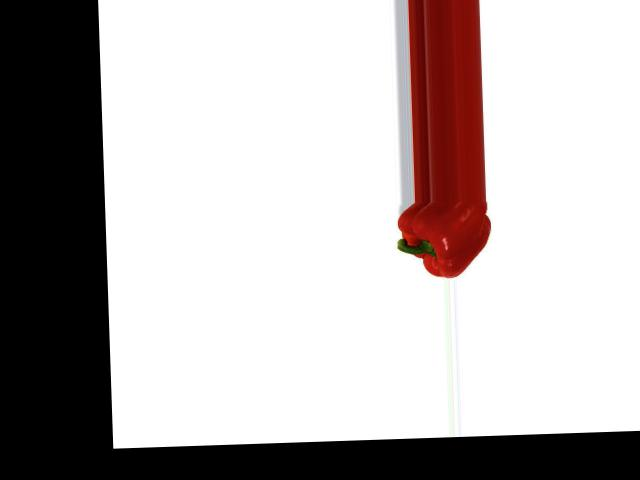bell_pepper: (383, 199, 503, 280)
